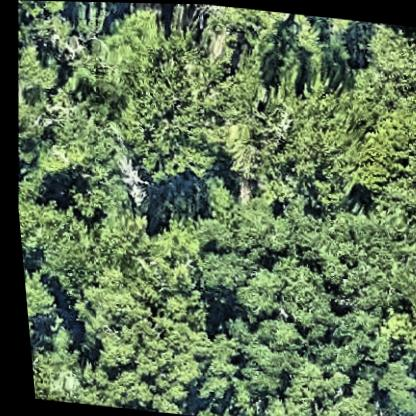tree-top: (101, 31, 236, 182), (289, 69, 413, 192), (83, 193, 198, 307), (308, 209, 412, 307), (204, 81, 300, 181), (116, 306, 214, 399), (195, 185, 286, 264), (250, 258, 338, 336), (14, 199, 93, 281), (23, 336, 109, 405), (55, 86, 127, 163), (216, 307, 296, 371), (356, 18, 416, 87), (211, 4, 284, 55), (22, 7, 85, 64), (183, 248, 245, 304), (18, 263, 59, 346), (376, 269, 416, 354), (360, 356, 416, 416), (12, 39, 67, 100), (10, 84, 51, 153), (284, 16, 324, 60), (16, 0, 73, 23), (412, 411, 416, 416)
